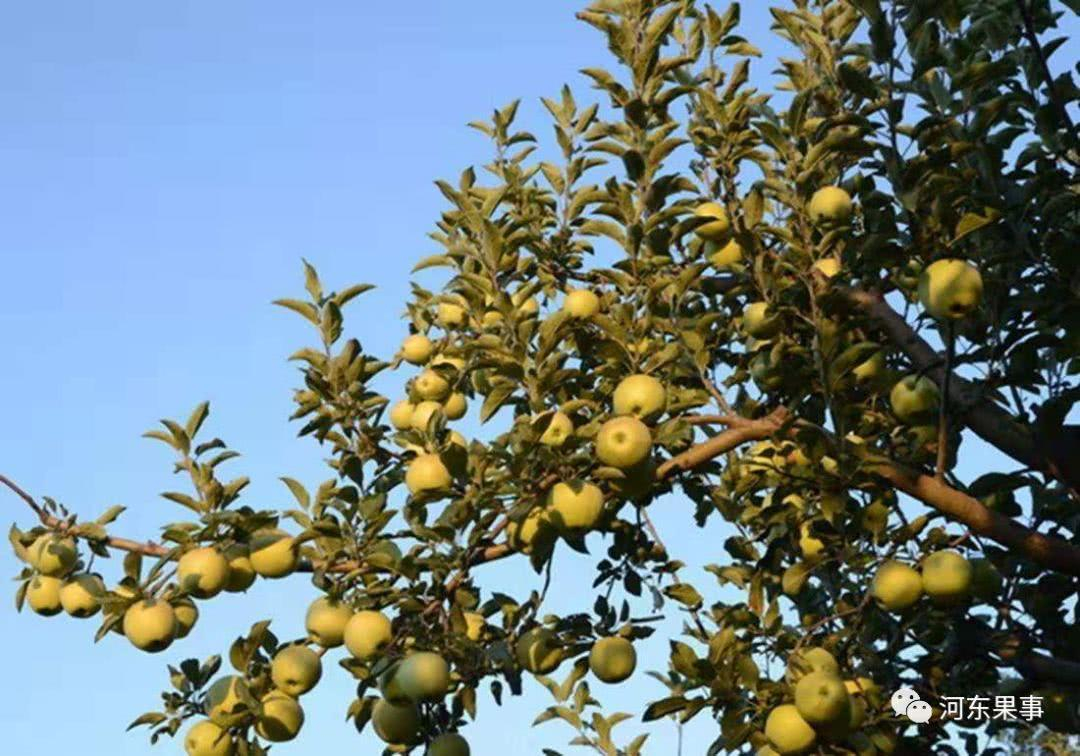apple: (920, 256, 982, 319), (593, 414, 651, 468), (121, 597, 174, 652), (268, 644, 324, 696), (606, 373, 665, 422), (795, 670, 848, 724), (395, 651, 449, 702), (919, 551, 969, 604), (763, 704, 816, 754), (252, 693, 307, 741), (871, 559, 921, 611), (176, 545, 225, 597), (888, 373, 940, 422), (247, 528, 298, 576), (342, 611, 392, 658), (588, 635, 635, 684), (58, 576, 105, 620), (308, 595, 348, 644), (183, 720, 232, 756), (806, 187, 851, 225), (26, 575, 65, 618)
